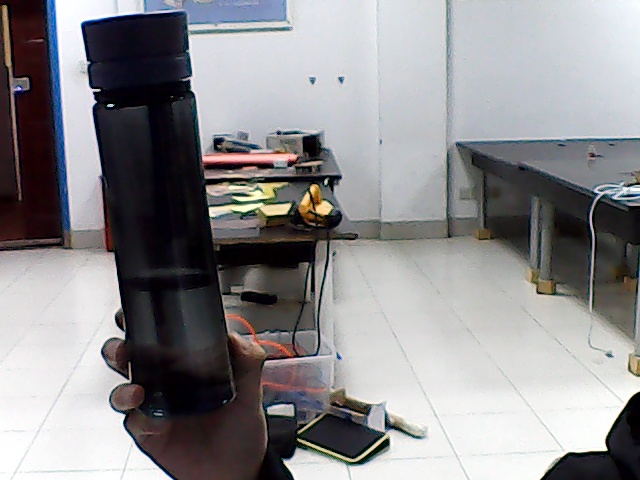cup: (109, 29, 176, 204)
